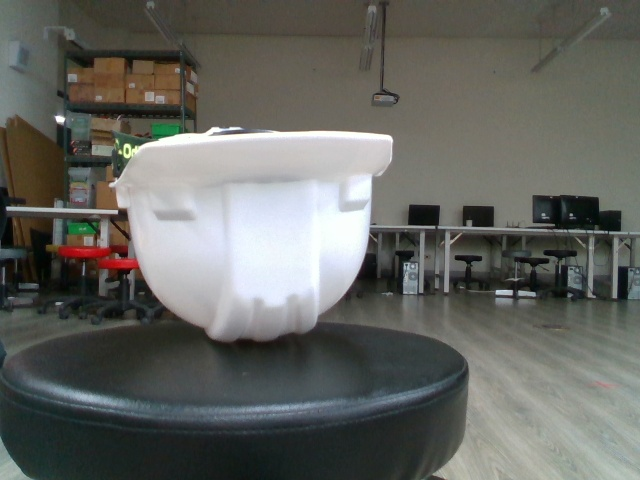helmet: (100, 124, 396, 347)
